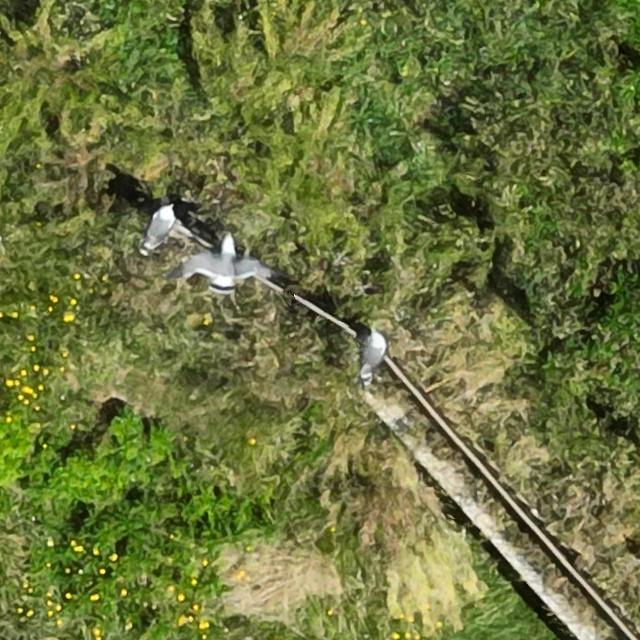F: (176, 231, 273, 297)
umineko: (146, 209, 174, 246), (363, 332, 386, 373)
